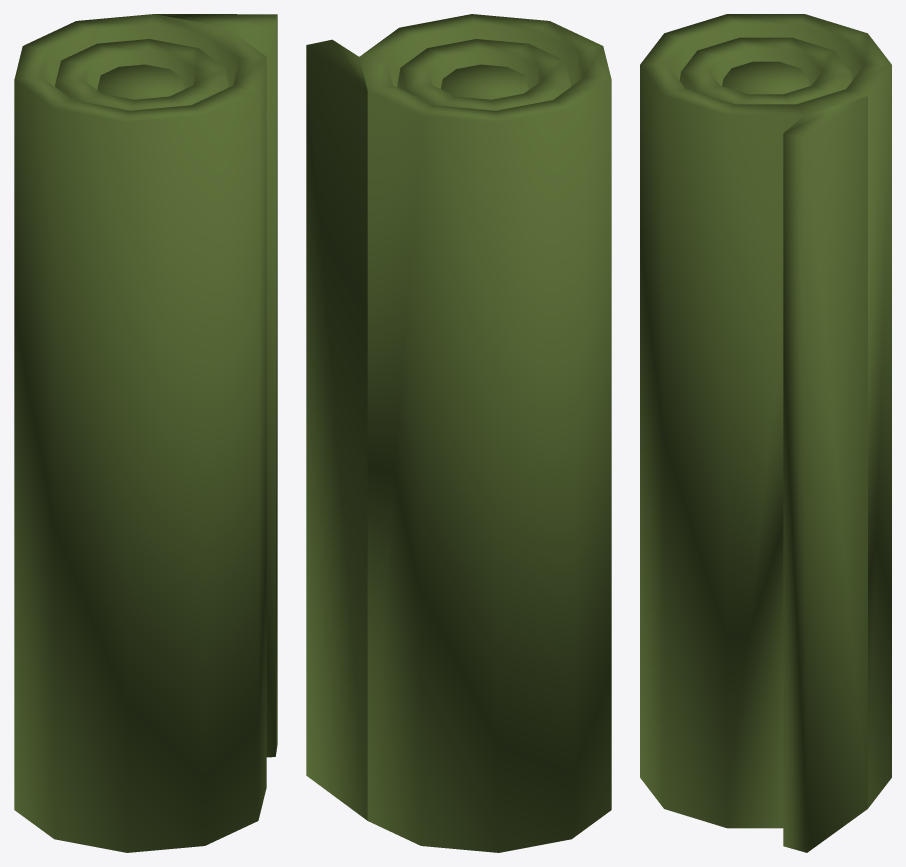
File: rpgpp_ag_carpet_01a.fbx
3 views of the same model, side by side, from view 1: azimuth 30°, elevation 25°; view 2: azimuth 150°, elevation 25°; view 3: azimuth 270°, elevation 25° (orthographic). The views are drawn at different scales.
Parts seen in each view (by area): view 1: rpgpp_ag_carpet_01a; view 2: rpgpp_ag_carpet_01a; view 3: rpgpp_ag_carpet_01a.
Boxes of the visible parts, left/top/right/bottom form: rpgpp_ag_carpet_01a: left=14, top=14, right=277, bottom=852; rpgpp_ag_carpet_01a: left=306, top=14, right=611, bottom=852; rpgpp_ag_carpet_01a: left=640, top=14, right=891, bottom=852.
Bounding box in the file's own units: 0.3785 × 1 × 0.32.
